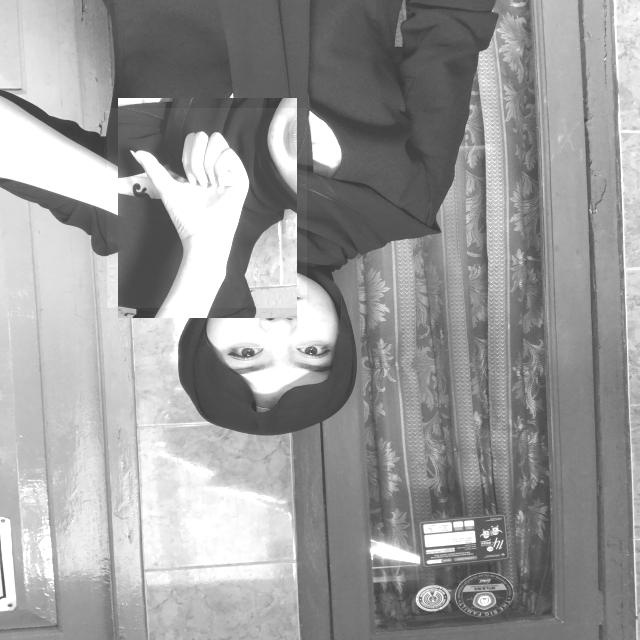sedih: (107, 108, 307, 308)
